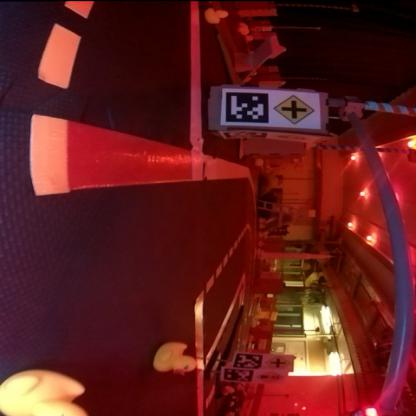Duckie: (3, 369, 90, 414), (156, 342, 196, 374), (204, 7, 230, 23)
Intersection sign: (277, 94, 315, 124), (266, 354, 290, 370)
QR code: (230, 92, 270, 124), (237, 354, 261, 368), (224, 368, 252, 380)
Signal sign: (258, 370, 282, 383)
